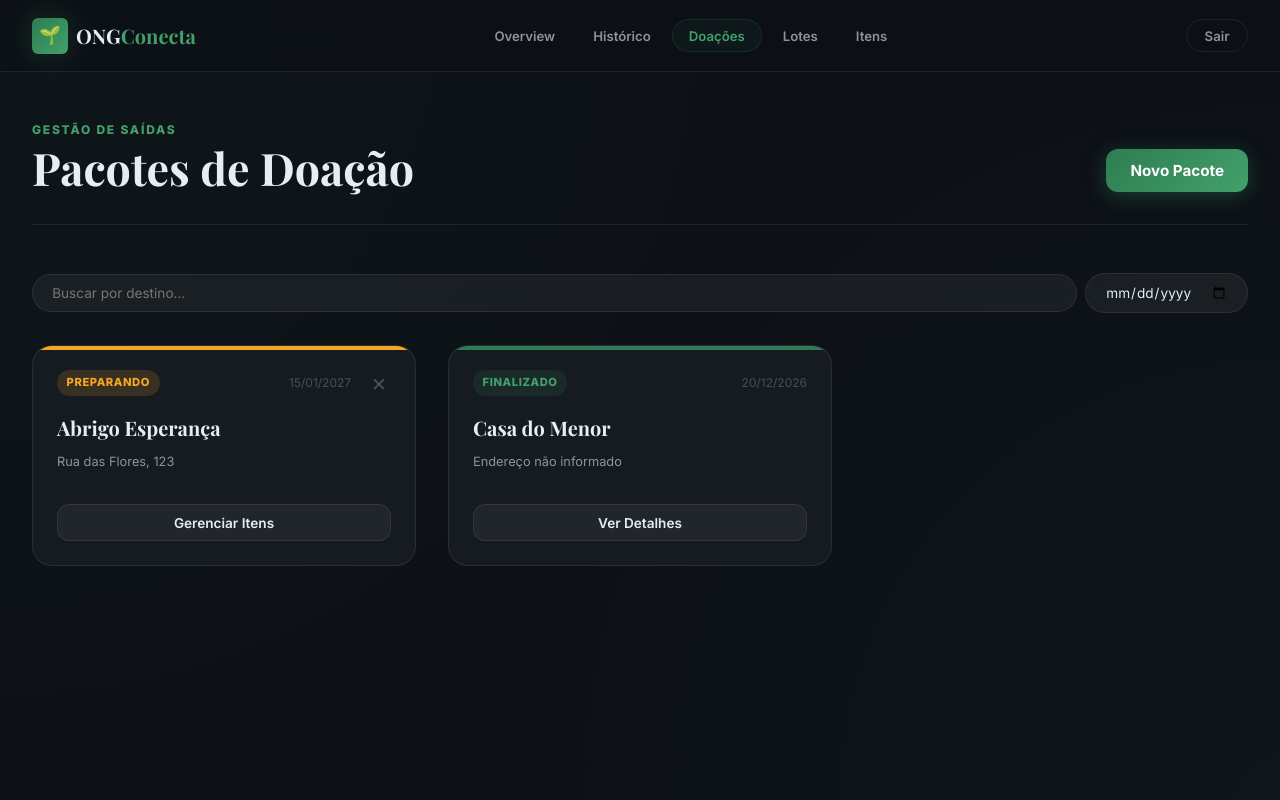
Test: DonationsPage — modal de novo pacote › abre o modal ao clicar em "Novo Pacote"
Expected: the heading "Abrigo Esperança" is shown, [57, 414, 220, 441]
Click the button "Novo Pacote" at (1177, 171), box [1106, 150, 1248, 192]
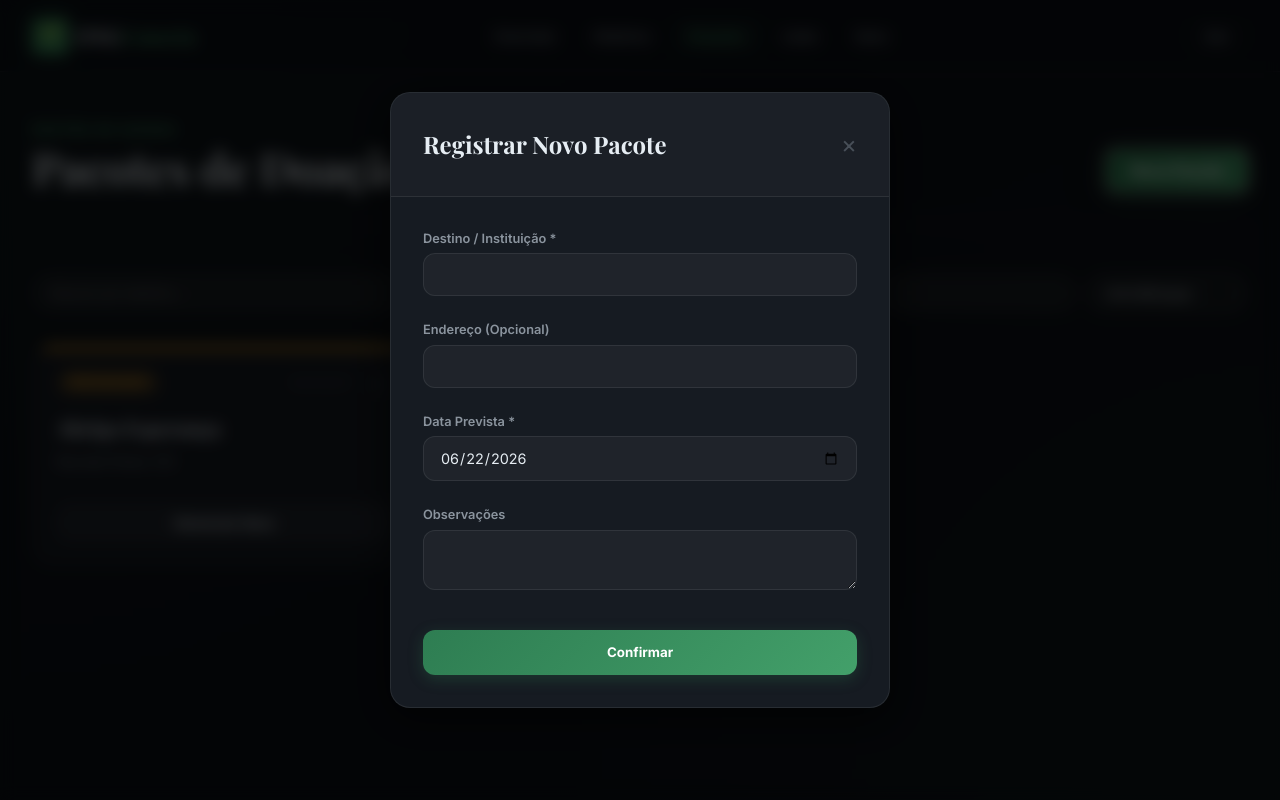
Expected: the heading "Registrar Novo Pacote" is shown, [423, 126, 667, 164]
Expected: the field labelled "Destino / Instituição *" is shown, [423, 253, 857, 296]
